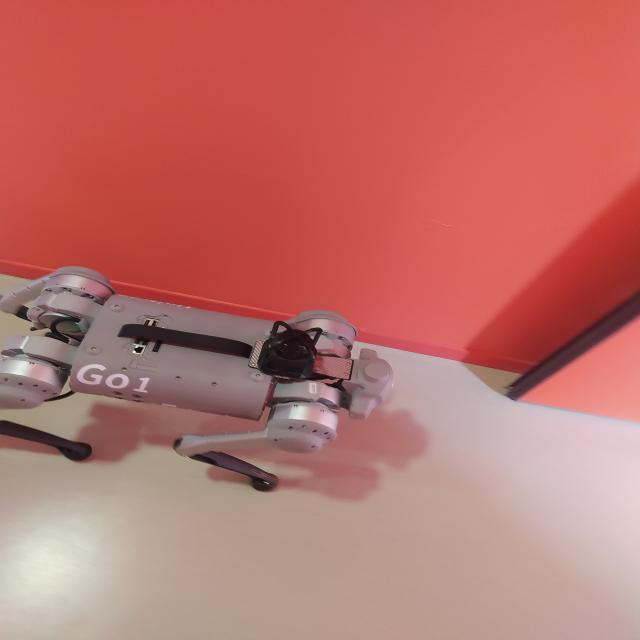unitree-go1-robot: (1, 238, 408, 513)
